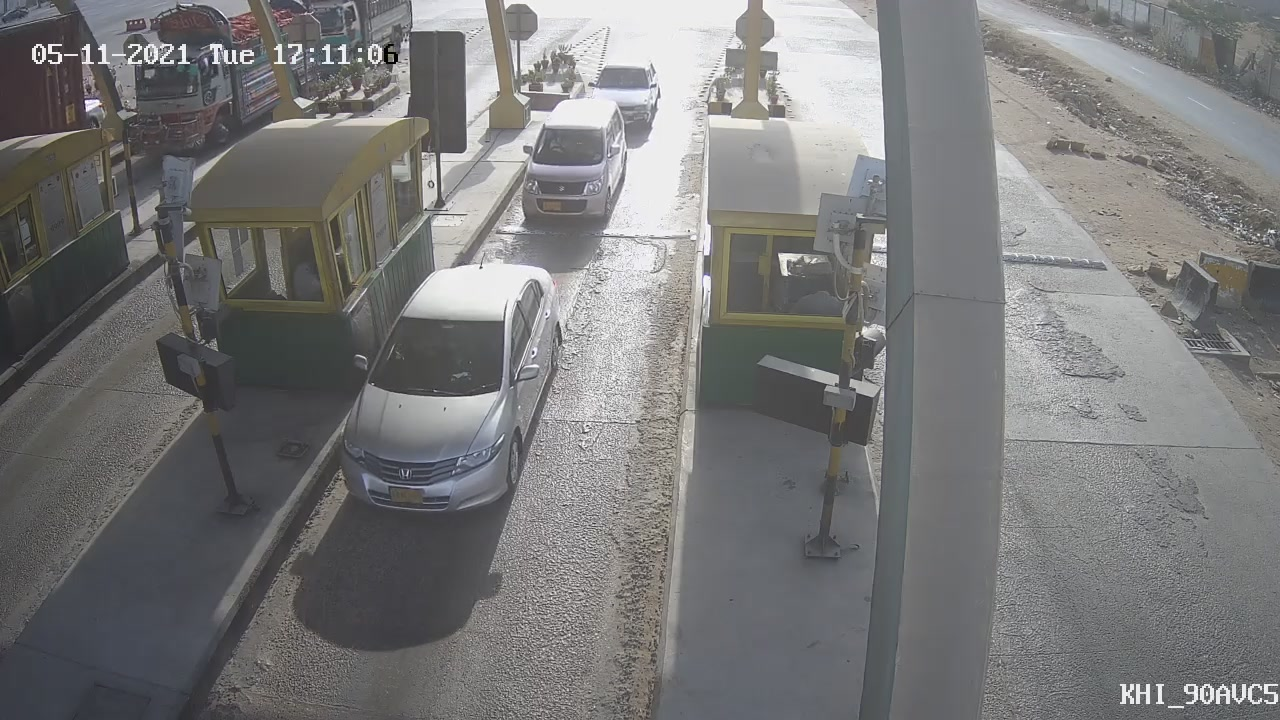F1: (313, 246, 587, 538), (504, 83, 647, 243)
